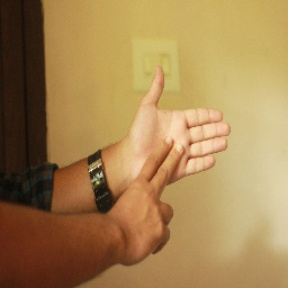N: (112, 64, 236, 250)
